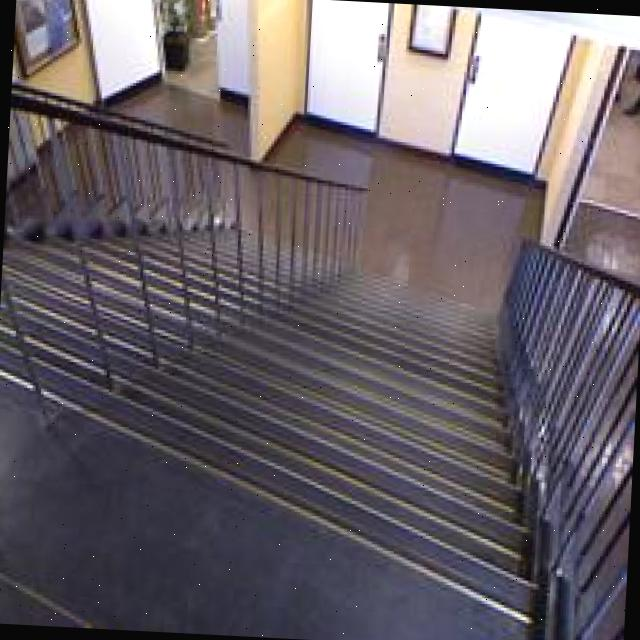stairs: (0, 126, 629, 640)
